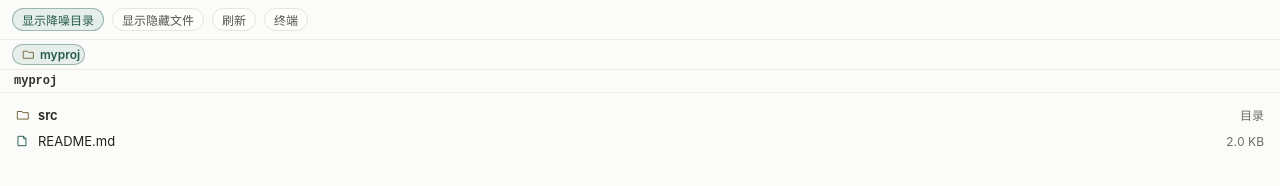
Test: WorkspaceFilesPane 标签页交互（S14） › 点文件开文件标签并加载预览
Step 1. Click the button with class "file-list-item" showing "README.md 2.0 KB" → x=77, y=141, box [8,128,1272,154]
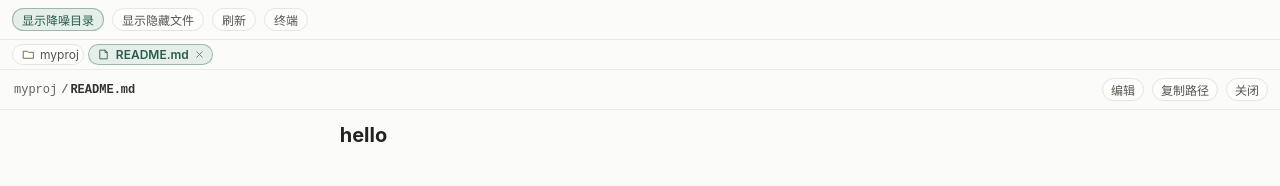
Now the element with class "file-viewer" is shown, box [0,70,1279,169]
Now the text "hello" is shown, box [340,123,387,147]
